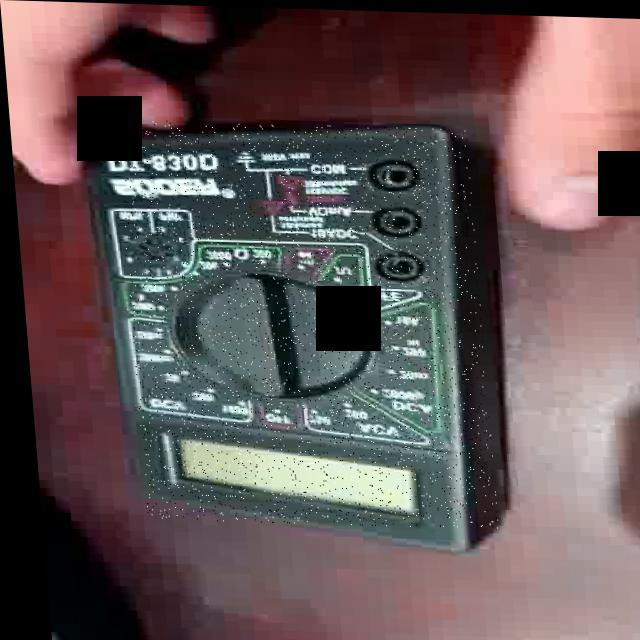multimeter: (113, 118, 490, 527)
